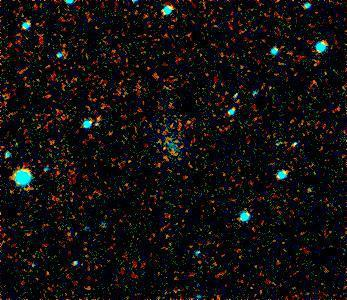star: (86, 101, 116, 131)
